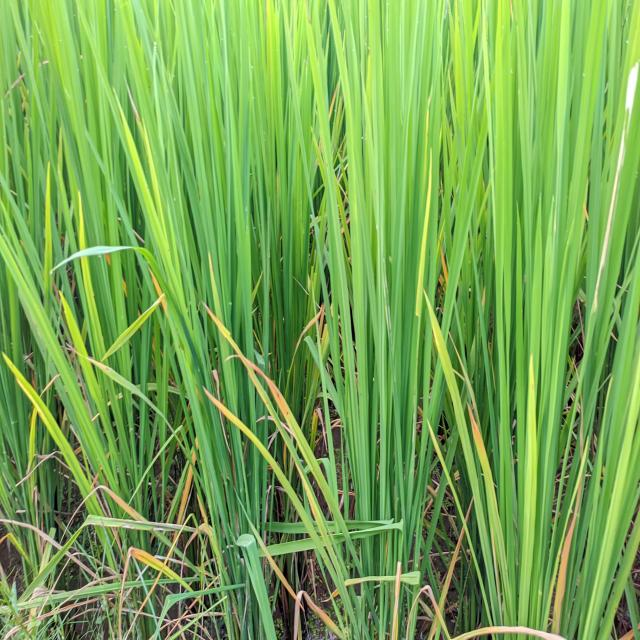HealthyLeaf: (186, 65, 231, 250), (382, 72, 415, 288), (62, 65, 100, 168)
